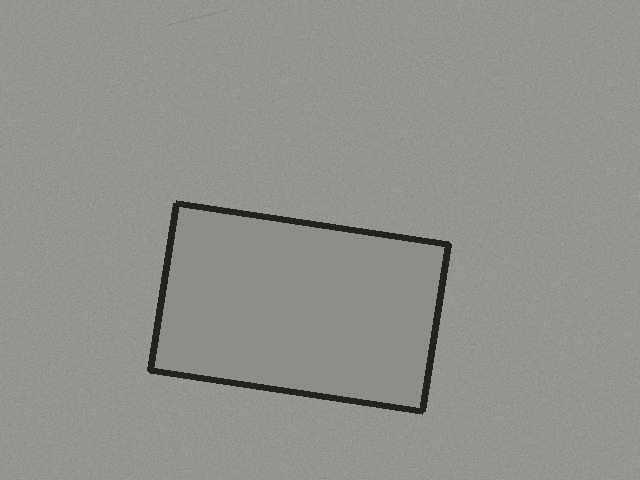parking_area: (150, 203, 448, 411)
